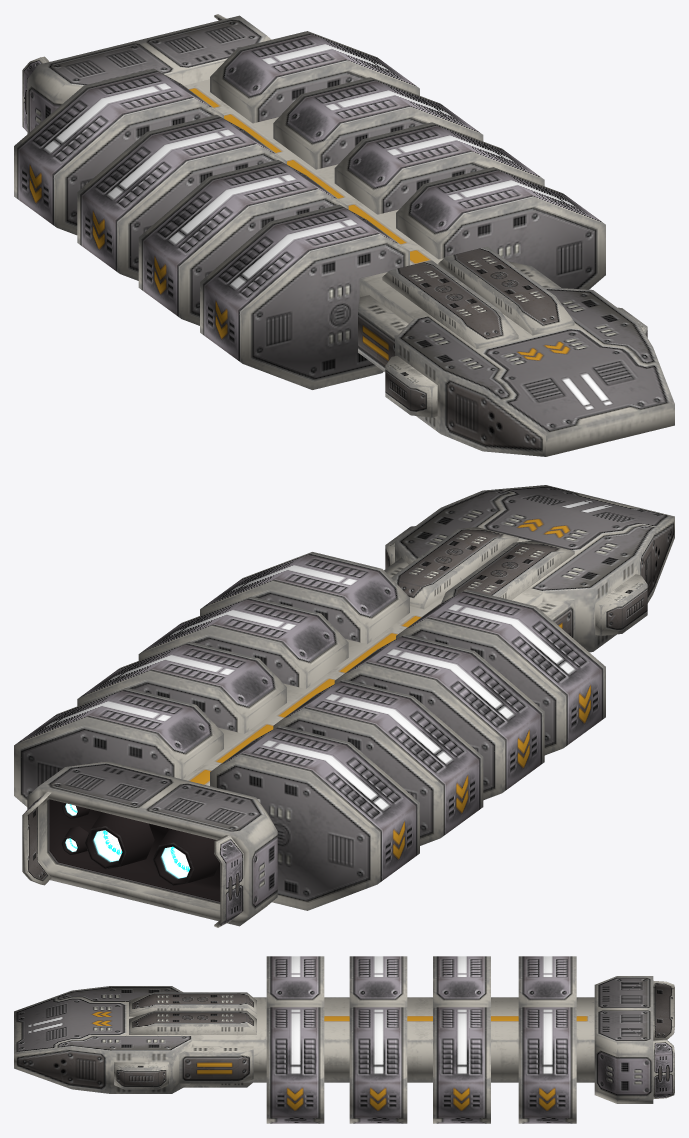
The model's file is hauler-pannier.glb.
The picture shows the model from 3 angles, top to bottom: view 1: azimuth 30°, elevation 25°; view 2: azimuth 150°, elevation 25°; view 3: azimuth 270°, elevation 25°; orthographic projection. The views are drawn at different scales.
Parts seen in each view (by area): view 1: hull; view 2: hull; view 3: hull.
Part boxes in pixels (bbox=[...]): hull: bbox=[14, 14, 674, 456]; hull: bbox=[14, 485, 674, 927]; hull: bbox=[14, 956, 674, 1123].
Bounding box in the file's own units: 0.4305 × 0.1555 × 1.
1 material, 1 textured.
